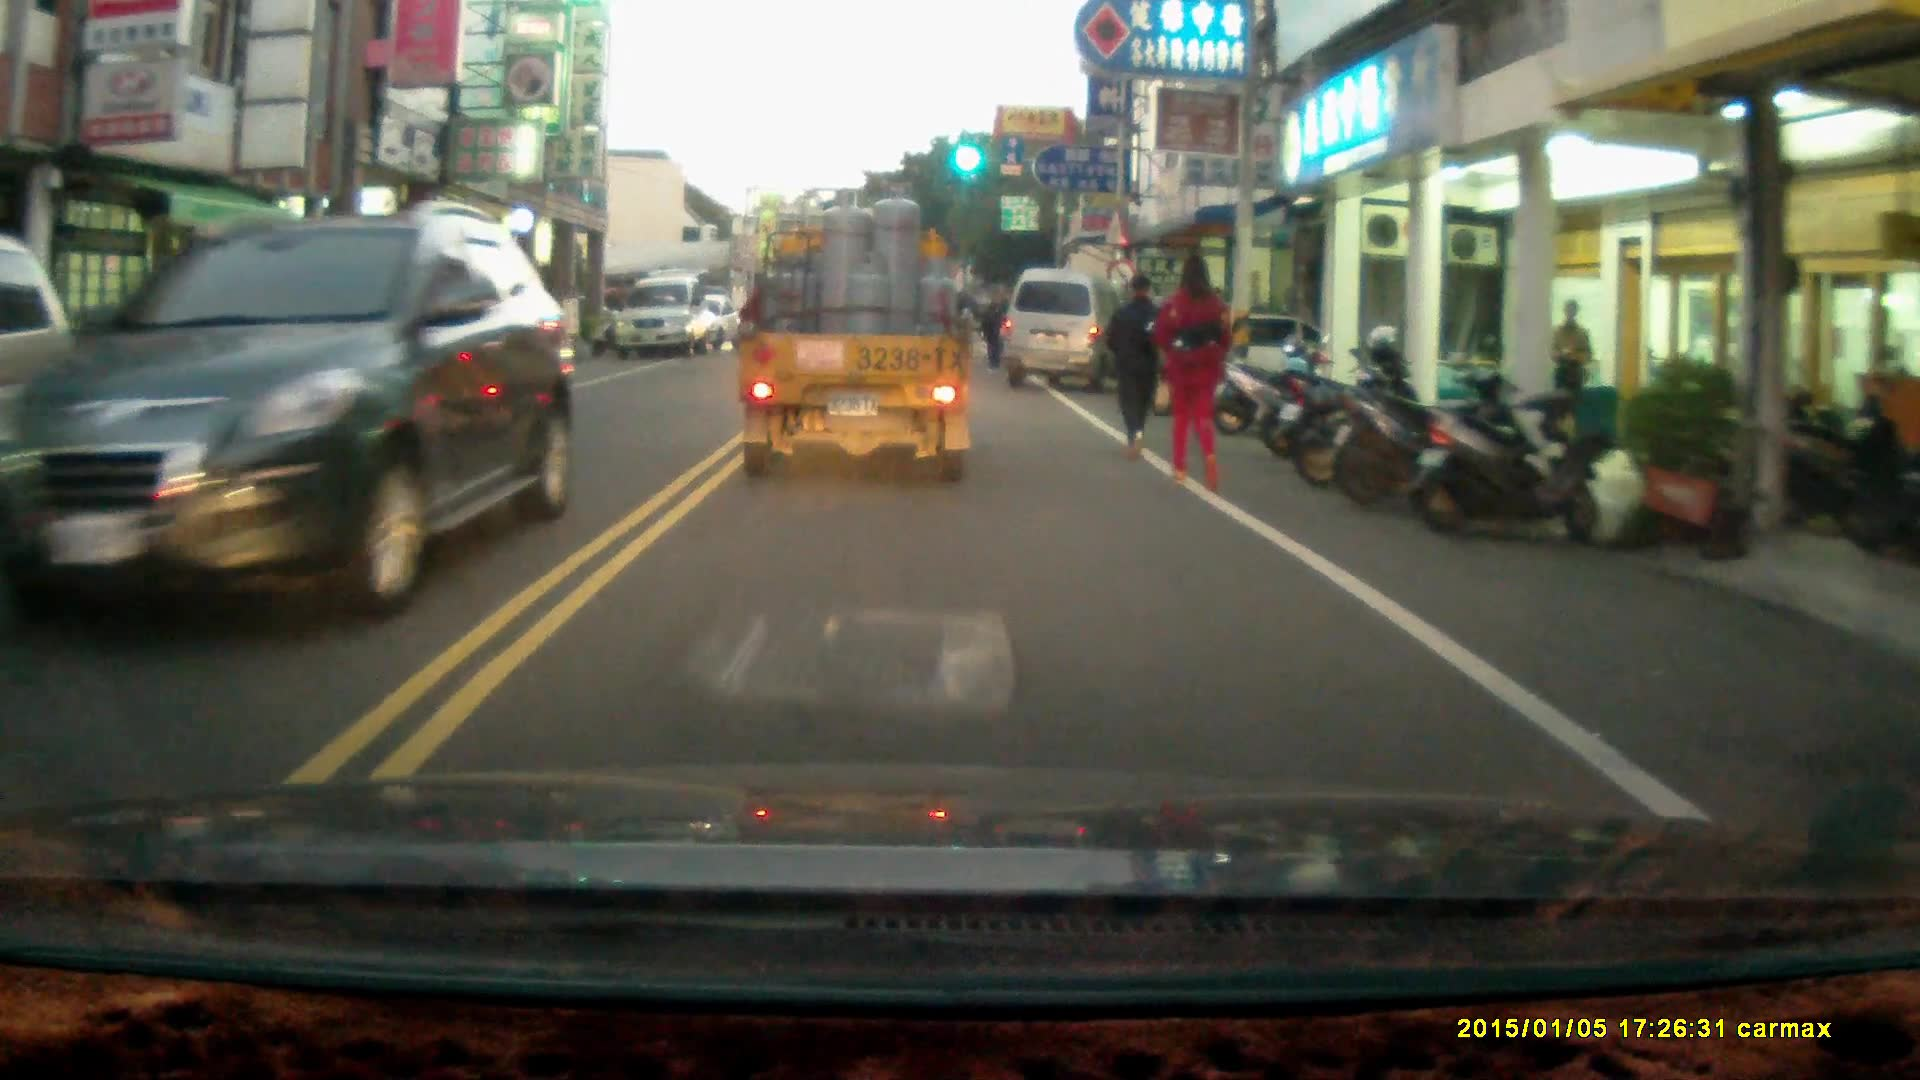pedestrian: (1156, 247, 1234, 492), (1101, 267, 1173, 459), (1548, 295, 1594, 439), (979, 288, 1012, 369)
vehicle: (6, 198, 570, 622), (735, 182, 984, 489), (219, 290, 481, 400), (1, 227, 95, 508), (1007, 268, 1133, 394), (613, 276, 719, 361)
